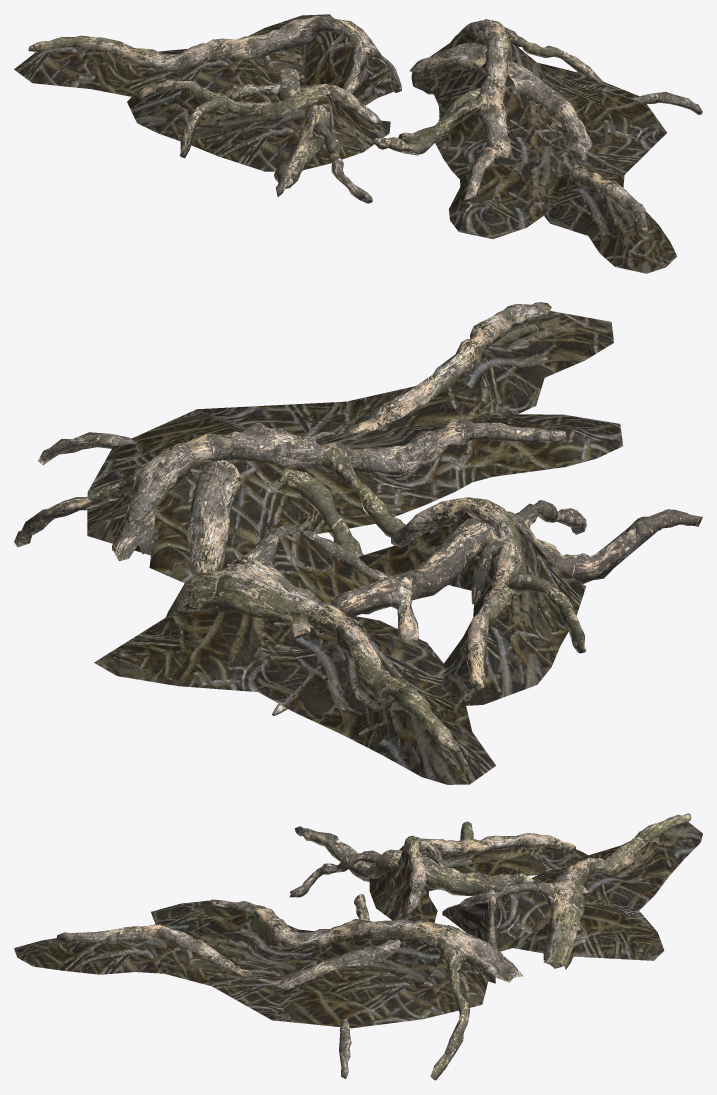
File: SM_TreeRoots_01.fbx
The picture shows the model from 3 angles, top to bottom: view 1: azimuth 30°, elevation 25°; view 2: azimuth 150°, elevation 25°; view 3: azimuth 270°, elevation 25°; orthographic projection. The views are drawn at different scales.
Parts seen in each view (by area): view 1: SM_TreeRoots_01; view 2: SM_TreeRoots_01; view 3: SM_TreeRoots_01.
Part boxes in pixels (x1=…): SM_TreeRoots_01: x1=14, y1=14, x2=702, y2=273; SM_TreeRoots_01: x1=14, y1=302, x2=702, y2=784; SM_TreeRoots_01: x1=14, y1=813, x2=702, y2=1080.
Bounding box in the file's own units: 344 × 443 × 71.33.
2 materials, 2 textured.
